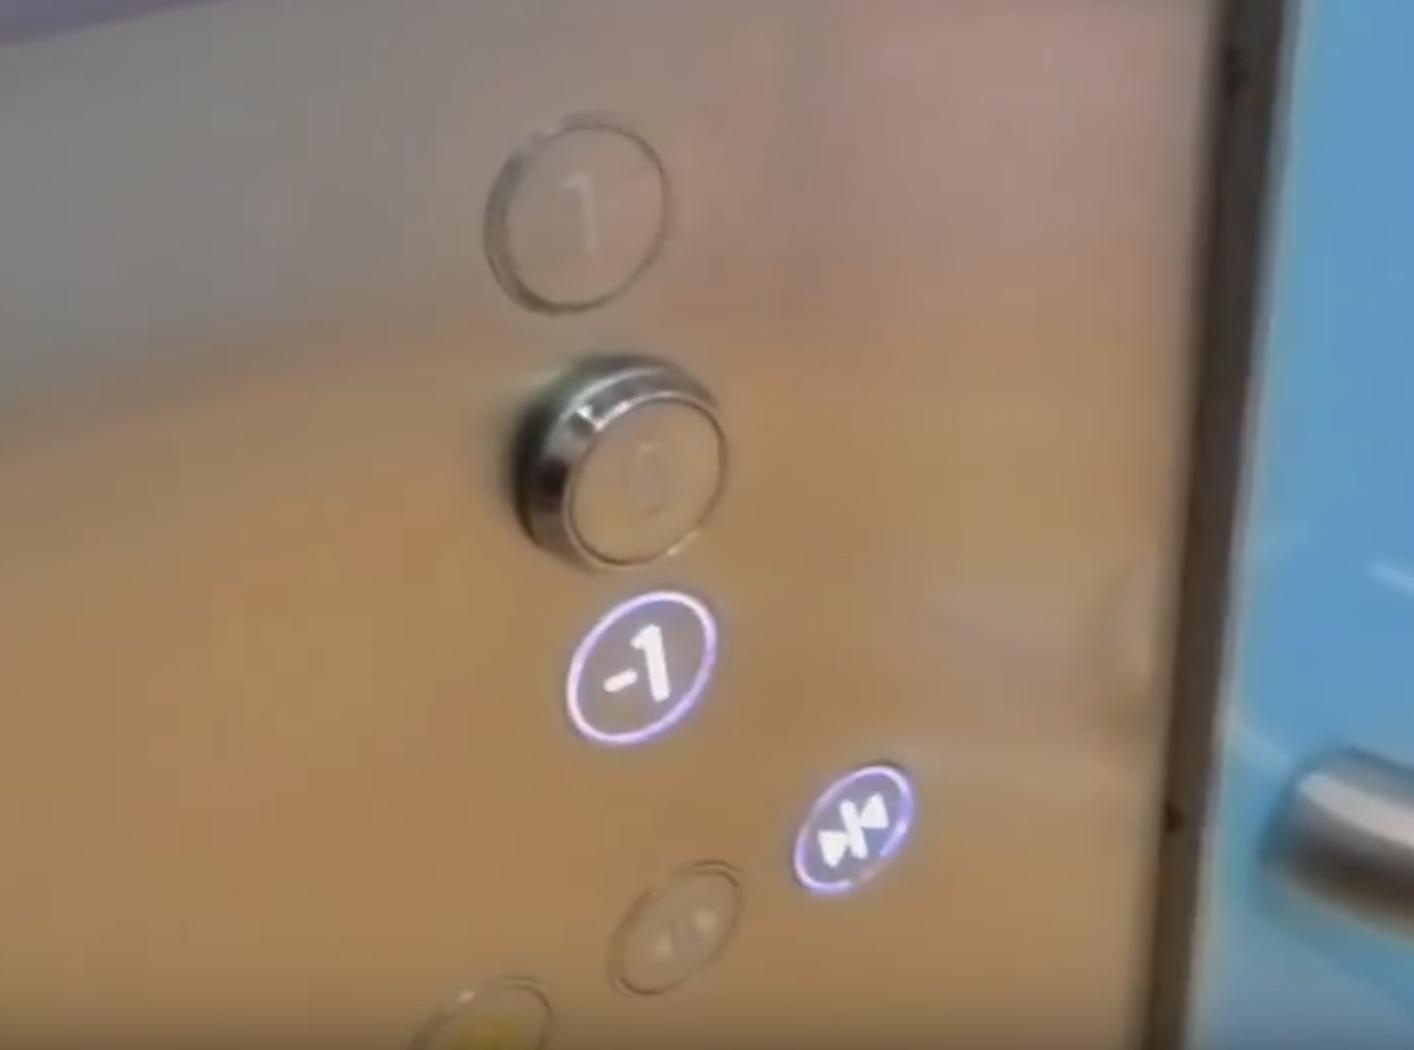-1: (560, 587, 724, 749)
0: (514, 354, 741, 578)
1: (480, 111, 673, 322)
close: (786, 759, 918, 896)
open: (607, 856, 752, 1003)
